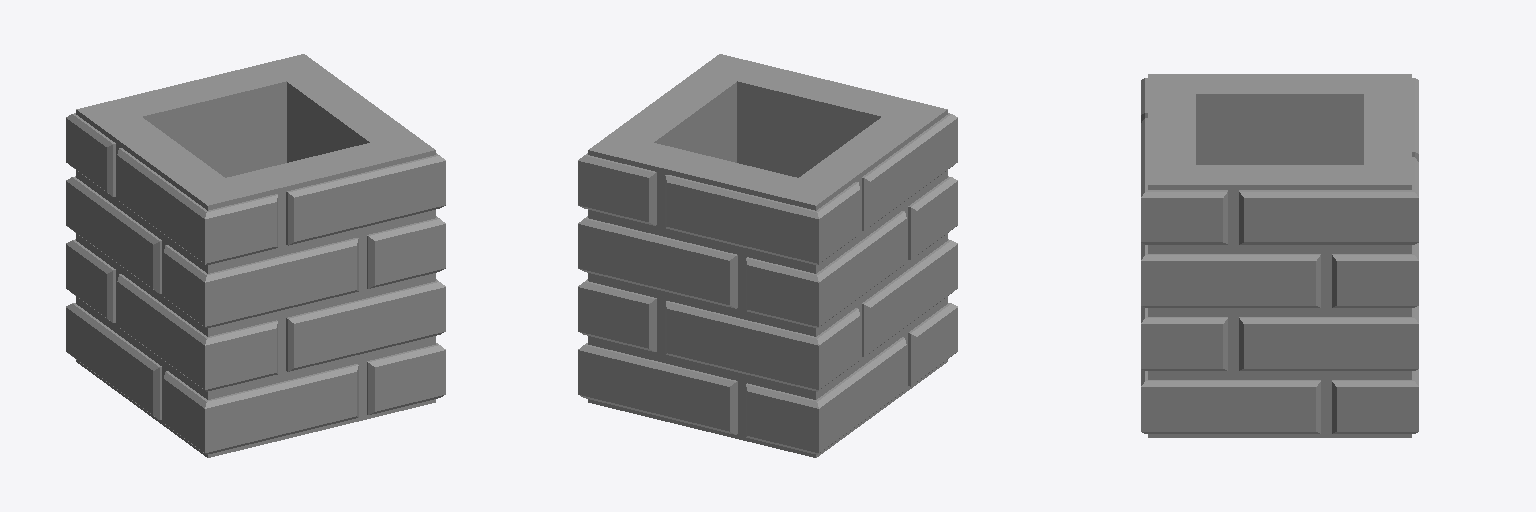
File: lazertown_brick.obj
3 views of the same model, side by side, from view 1: azimuth 30°, elevation 25°; view 2: azimuth 150°, elevation 25°; view 3: azimuth 270°, elevation 25° (orthographic).
Parts seen in each view (by area): view 1: Cube; view 2: Cube; view 3: Cube.
Part boxes in pixels (bbox=[...]): Cube: bbox=[66, 54, 445, 457]; Cube: bbox=[578, 54, 957, 457]; Cube: bbox=[1141, 74, 1418, 437].
Size of the model in its own units: 1 by 1 by 1.